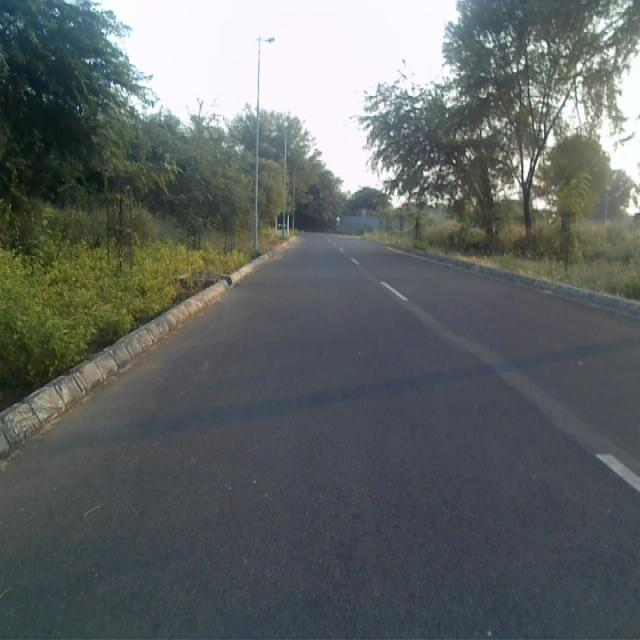lane: (0, 235, 640, 640)
